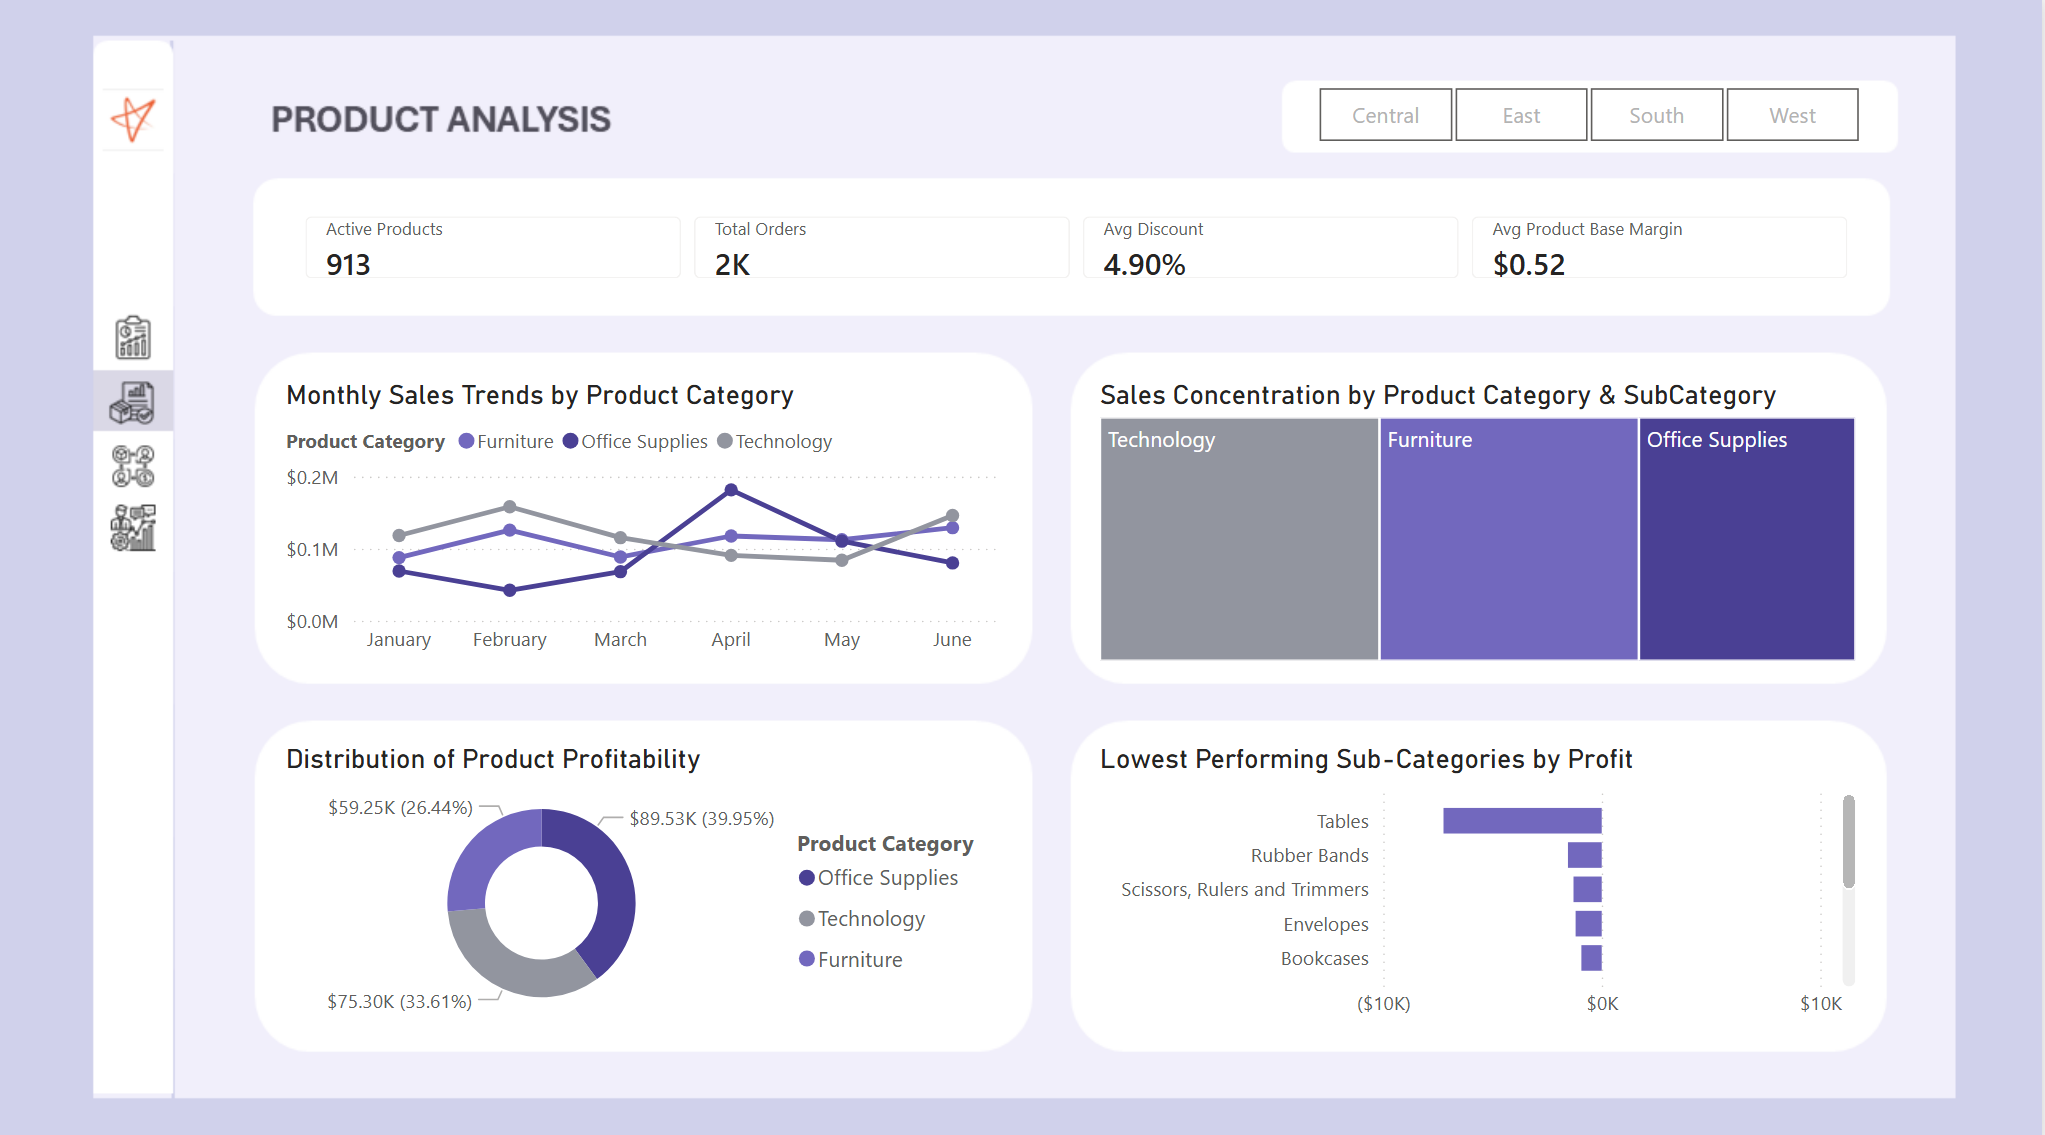

The dashboard page shown, as its layout file describes it:
{"tool":"powerbi","page":{"name":"Page 2","canvas":[1280,720],"ordinal":1},"visuals":[{"type":"donutChart","title":"Distribution of Product Profitability","fields":{"Category":["outputssuperstore_cleaned.Product Category Hierarchy.Product Category","outputssuperstore_cleaned.Product Category Hierarchy.Product Sub-Category"],"Y":["Sum(outputssuperstore_cleaned.Profit)"]},"box":[177.9,467.1,455.4,181.1],"z":0},{"type":"slicer","fields":{"Values":["outputssuperstore_cleaned.Region"]},"box":[802,51,387,47],"z":1000},{"type":"cardVisual","fields":{"Data":["Profit Bridge.Active Products","Profit Bridge.Total Orders","Profit Bridge.Average Discount","Profit Bridge.Avg Product Base Margin"]},"box":[177.9,121.1,999.6,73.9],"z":2000},{"type":"lineChart","title":"Monthly Sales Trends by Product Category","fields":{"Y":["Sum(outputssuperstore_cleaned.Sales)"],"Category":["outputssuperstore_cleaned.Order Date.Variation.Date Hierarchy.Month"],"Series":["outputssuperstore_cleaned.Product Category"]},"box":[177.9,240,454.3,181.1],"z":3000},{"type":"barChart","title":"Lowest Performing Sub-Categories by Profit","fields":{"Category":["outputssuperstore_cleaned.Product Sub-Category"],"Y":["Sum(outputssuperstore_cleaned.Profit)"]},"box":[686.8,467.1,482.1,181.1],"z":4000},{"type":"treemap","title":"Sales Concentration by Product Category & SubCategory","fields":{"Group":["outputssuperstore_cleaned.Product Category Hierarchy.Product Category","outputssuperstore_cleaned.Product Category Hierarchy.Product Sub-Category"],"Values":["Sum(outputssuperstore_cleaned.Sales)"]},"box":[686.8,240,482.1,181.1],"z":5000},{"type":"pageNavigator","box":[71.8,195,32.1,156.4],"z":6000}]}

Visuals, with their boxes on the page's 1280x720 design canvas (x1, y1, x2, y2). These are canvas units, not pixel positions in the 2045x1135 screenshot, which may show the page scaled, cropped or inside an application window:
"Distribution of Product Profitability" donutChart: x1=178, y1=467, x2=633, y2=648
slicer - outputssuperstore_cleaned.Region: x1=802, y1=51, x2=1189, y2=98
cardVisual - Profit Bridge.Active Products x Profit Bridge.Total Orders: x1=178, y1=121, x2=1178, y2=195
"Monthly Sales Trends by Product Category" lineChart: x1=178, y1=240, x2=632, y2=421
"Lowest Performing Sub-Categories by Profit" barChart: x1=687, y1=467, x2=1169, y2=648
"Sales Concentration by Product Category & SubCategory" treemap: x1=687, y1=240, x2=1169, y2=421
pageNavigator: x1=72, y1=195, x2=104, y2=351
